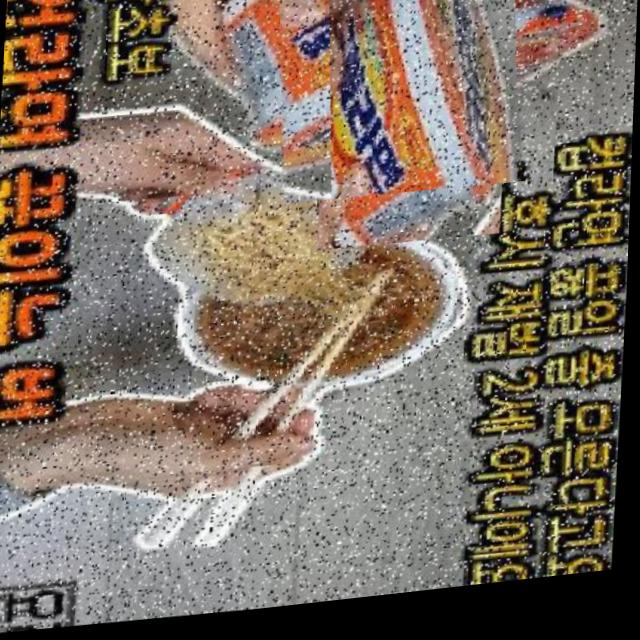Miscellaneous: (268, 0, 564, 216)
